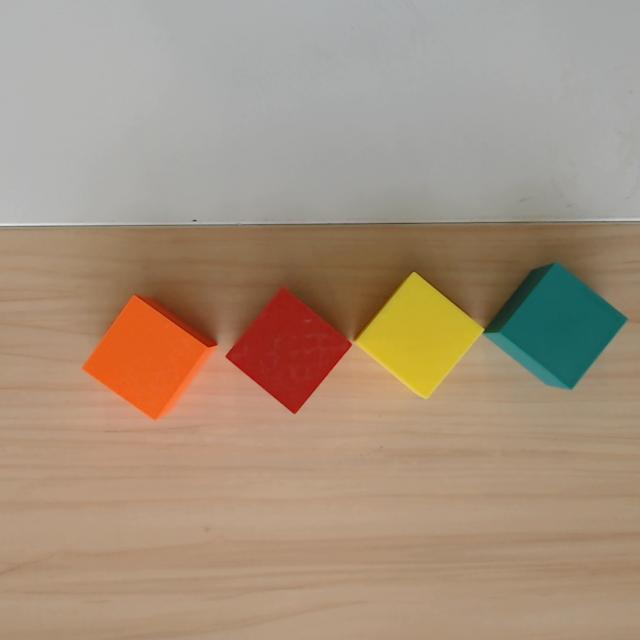Kubus-Hijau-505050: (482, 254, 627, 399)
Kubus-Jingga-505050: (81, 288, 218, 426)
Kubus-Kuning-505050: (352, 269, 485, 402)
Kubus-Merah-505050: (224, 286, 353, 414)
